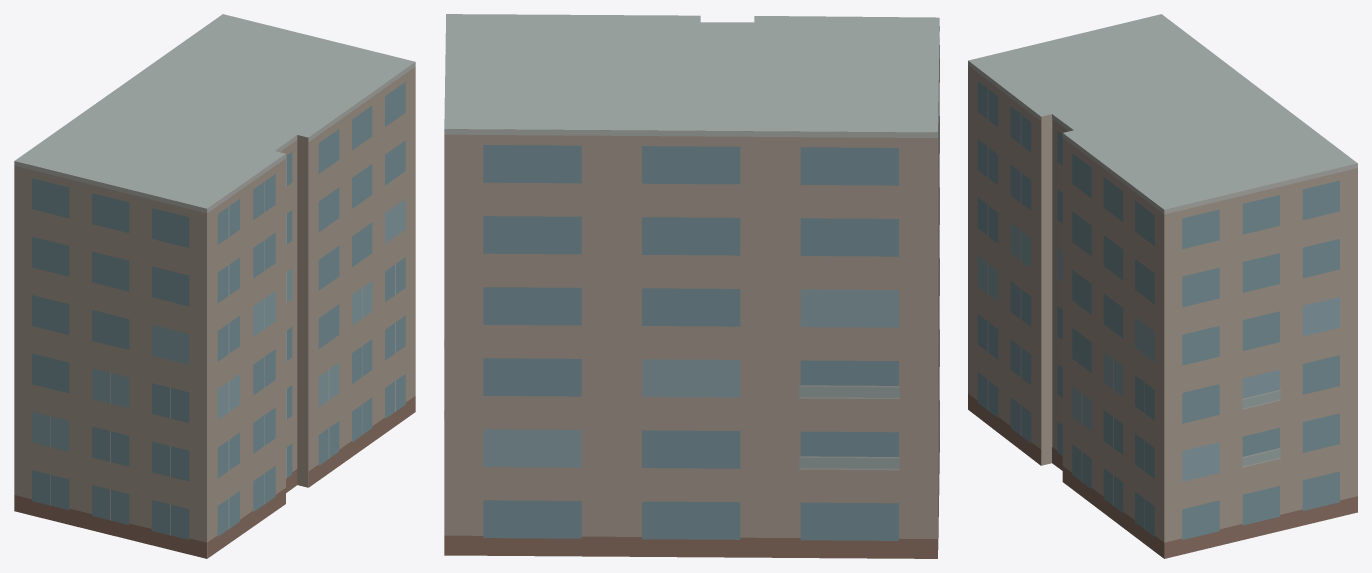
File: survey-upis-32721120.glb
3 renders of one model, left to right at view 1: azimuth 30°, elevation 25°; view 2: azimuth 150°, elevation 25°; view 3: azimuth 270°, elevation 25°, orthographic. The views are drawn at different scales.
Parts seen in each view (by area): view 1: survey-upis-32721120.tmp; view 2: survey-upis-32721120.tmp; view 3: survey-upis-32721120.tmp.
Part boxes in pixels (x1,y1,x2,y2): survey-upis-32721120.tmp: [14, 14, 415, 558]; survey-upis-32721120.tmp: [444, 14, 939, 558]; survey-upis-32721120.tmp: [968, 14, 1357, 558].
Size of the model in its own units: 22.02 by 18.3 by 18.53.
